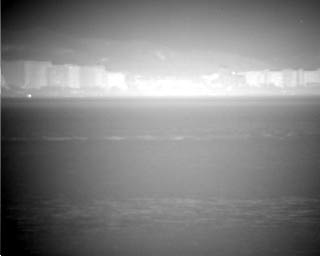Target: (29, 95, 32, 98)
